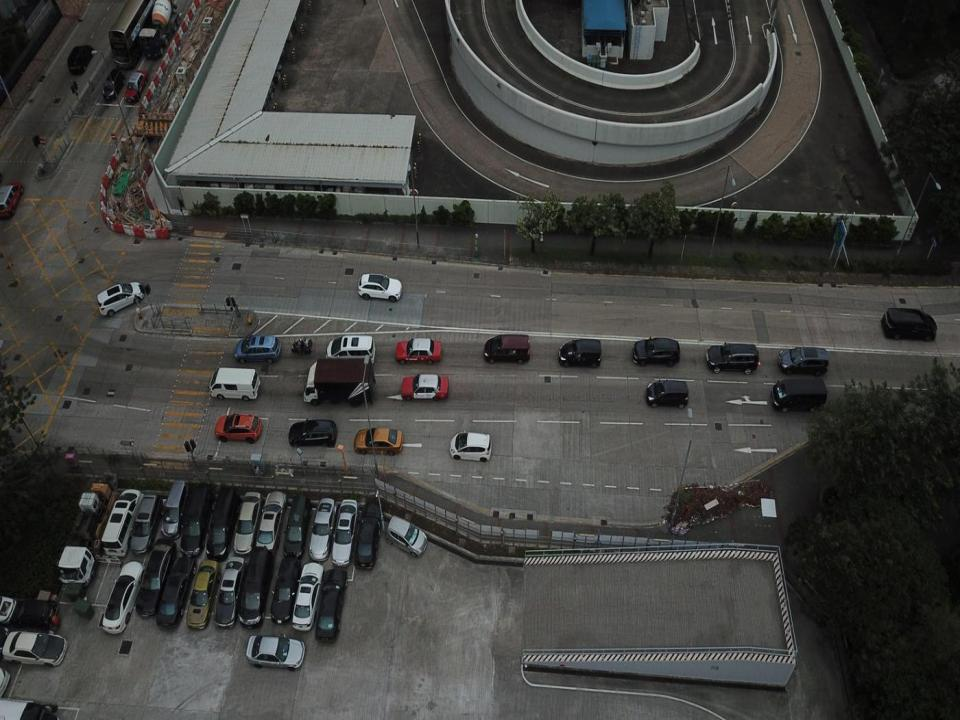bus: (109, 0, 157, 69)
car: (134, 538, 178, 619), (100, 561, 142, 635), (155, 556, 197, 628), (186, 558, 223, 632), (2, 630, 69, 669), (180, 483, 214, 556), (314, 568, 346, 644), (245, 634, 305, 674), (207, 483, 238, 560), (238, 545, 267, 627), (213, 557, 246, 629), (881, 304, 938, 343), (290, 559, 320, 632), (128, 491, 163, 552), (270, 556, 300, 624), (706, 339, 760, 376), (332, 496, 359, 567), (630, 333, 682, 369), (256, 490, 285, 554), (96, 281, 146, 318), (308, 495, 336, 560), (385, 516, 428, 558), (236, 490, 263, 556), (285, 489, 312, 555), (288, 415, 339, 448), (354, 424, 405, 457), (159, 478, 188, 536), (213, 410, 262, 444), (447, 427, 493, 463), (483, 332, 531, 366), (779, 344, 830, 376), (327, 332, 377, 364), (357, 505, 382, 568), (400, 371, 449, 402), (644, 378, 690, 411), (357, 272, 403, 304), (559, 337, 605, 369), (395, 336, 444, 366), (234, 334, 282, 363), (1, 180, 24, 221), (122, 71, 147, 102), (66, 44, 92, 73), (101, 72, 121, 99)
truck: (56, 482, 116, 592), (302, 358, 376, 408), (138, 0, 174, 58)
van: (100, 485, 142, 558), (770, 376, 828, 414), (210, 366, 260, 401)
